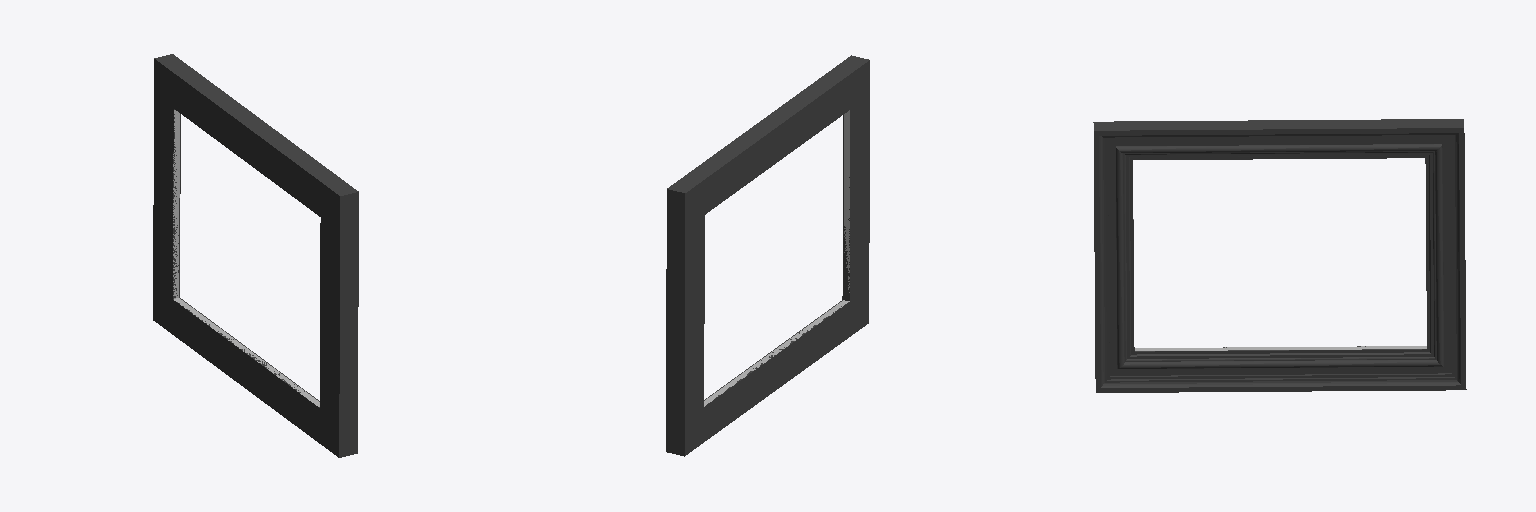
The model's file is frame.obj.
3 views of the same model, side by side, from view 1: azimuth 30°, elevation 25°; view 2: azimuth 150°, elevation 25°; view 3: azimuth 270°, elevation 25° (orthographic).
Visible parts, largest first — view 1: Picture; view 2: Picture; view 3: Picture.
Part boxes in pixels (x1,y1,x2,y2): Picture: (153, 54, 358, 457); Picture: (666, 55, 869, 456); Picture: (1093, 119, 1466, 392).
Bounding box in the file's own units: 0.1888 × 2.44 × 3.12.